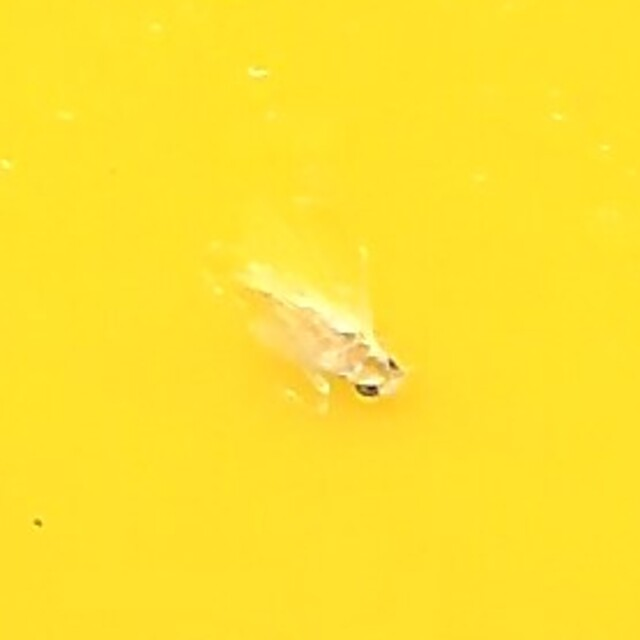Hemiptera: (230, 234, 410, 406)
